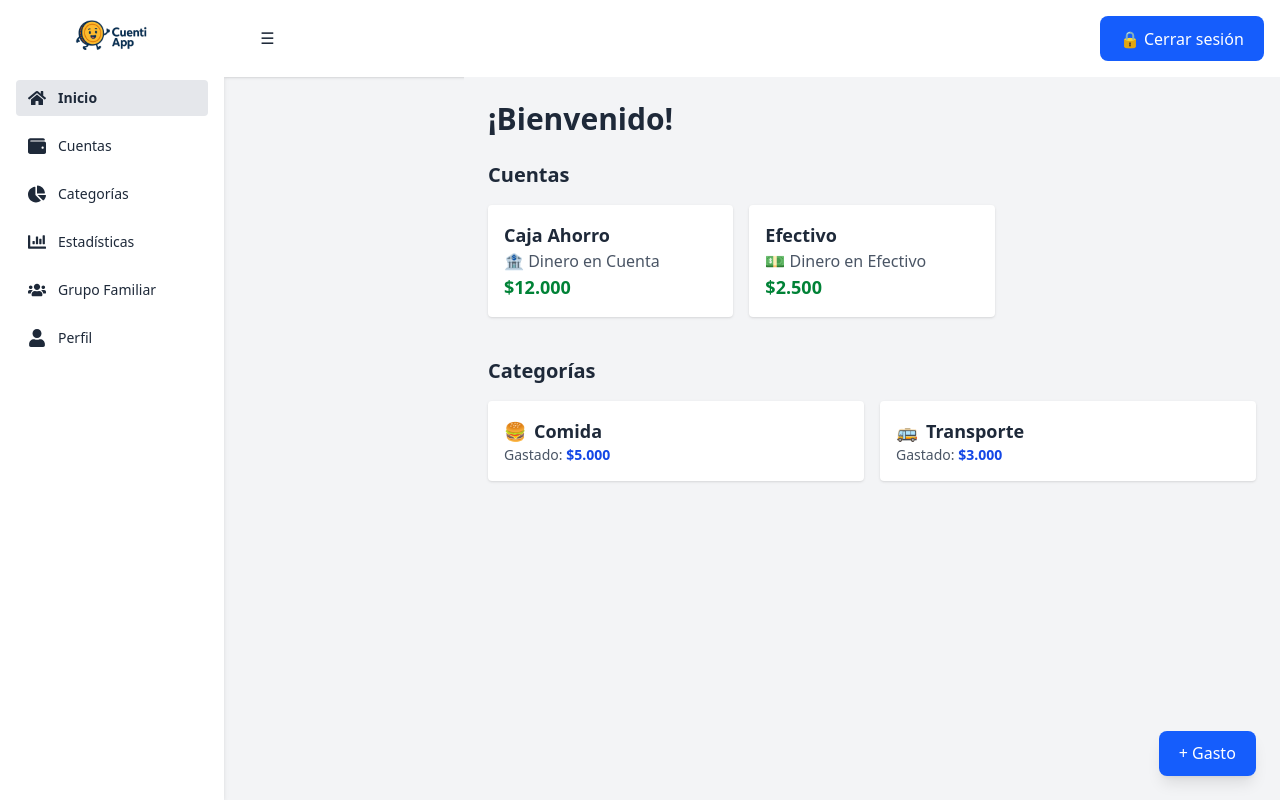
Test: HomePage › abre el modal y muestra el formulario de nuevo gasto
// Simulamos click
Click the button "+ Gasto" at coordinates (1207, 753), box [1159, 731, 1256, 776]
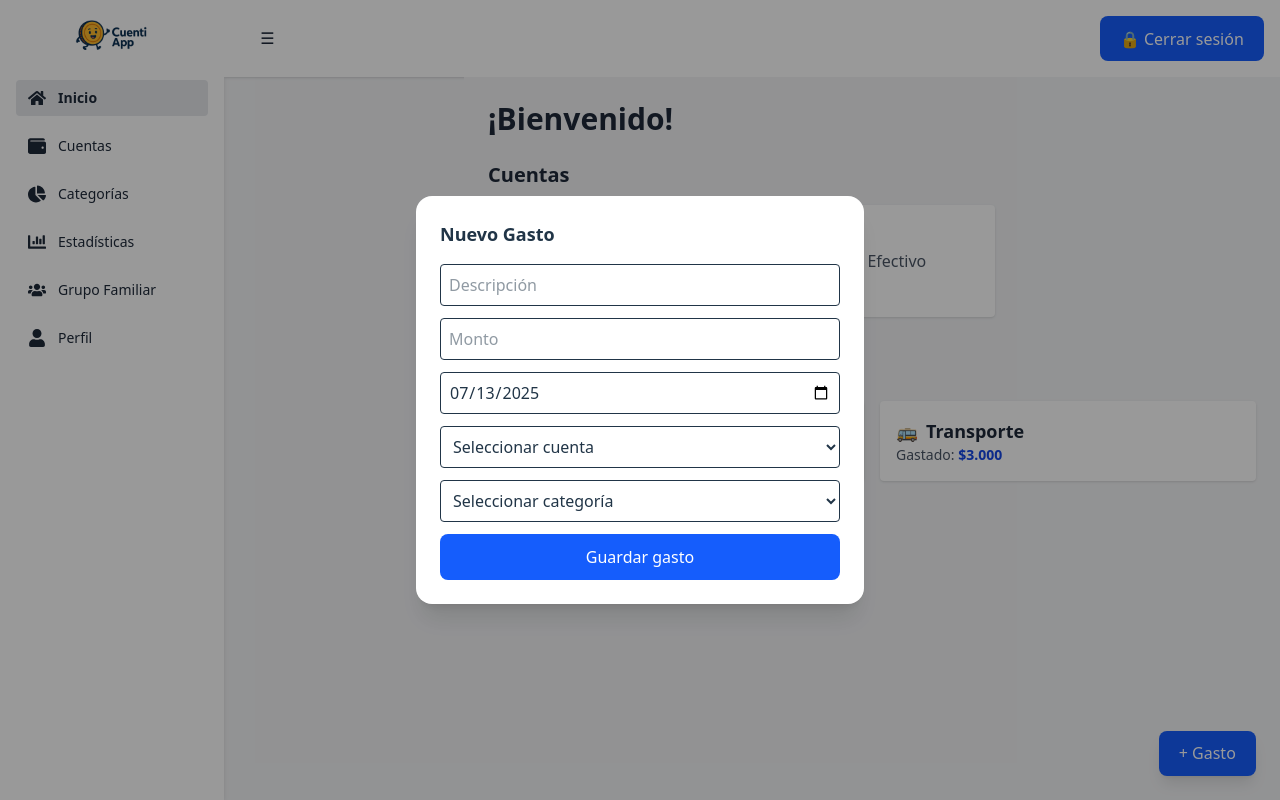
Expected: the heading "Nuevo Gasto" is shown, [440, 222, 555, 246]
Expected: the field with placeholder "Descripción" is shown, [440, 264, 840, 306]
Expected: the field with placeholder "Monto" is shown, [440, 318, 840, 360]
